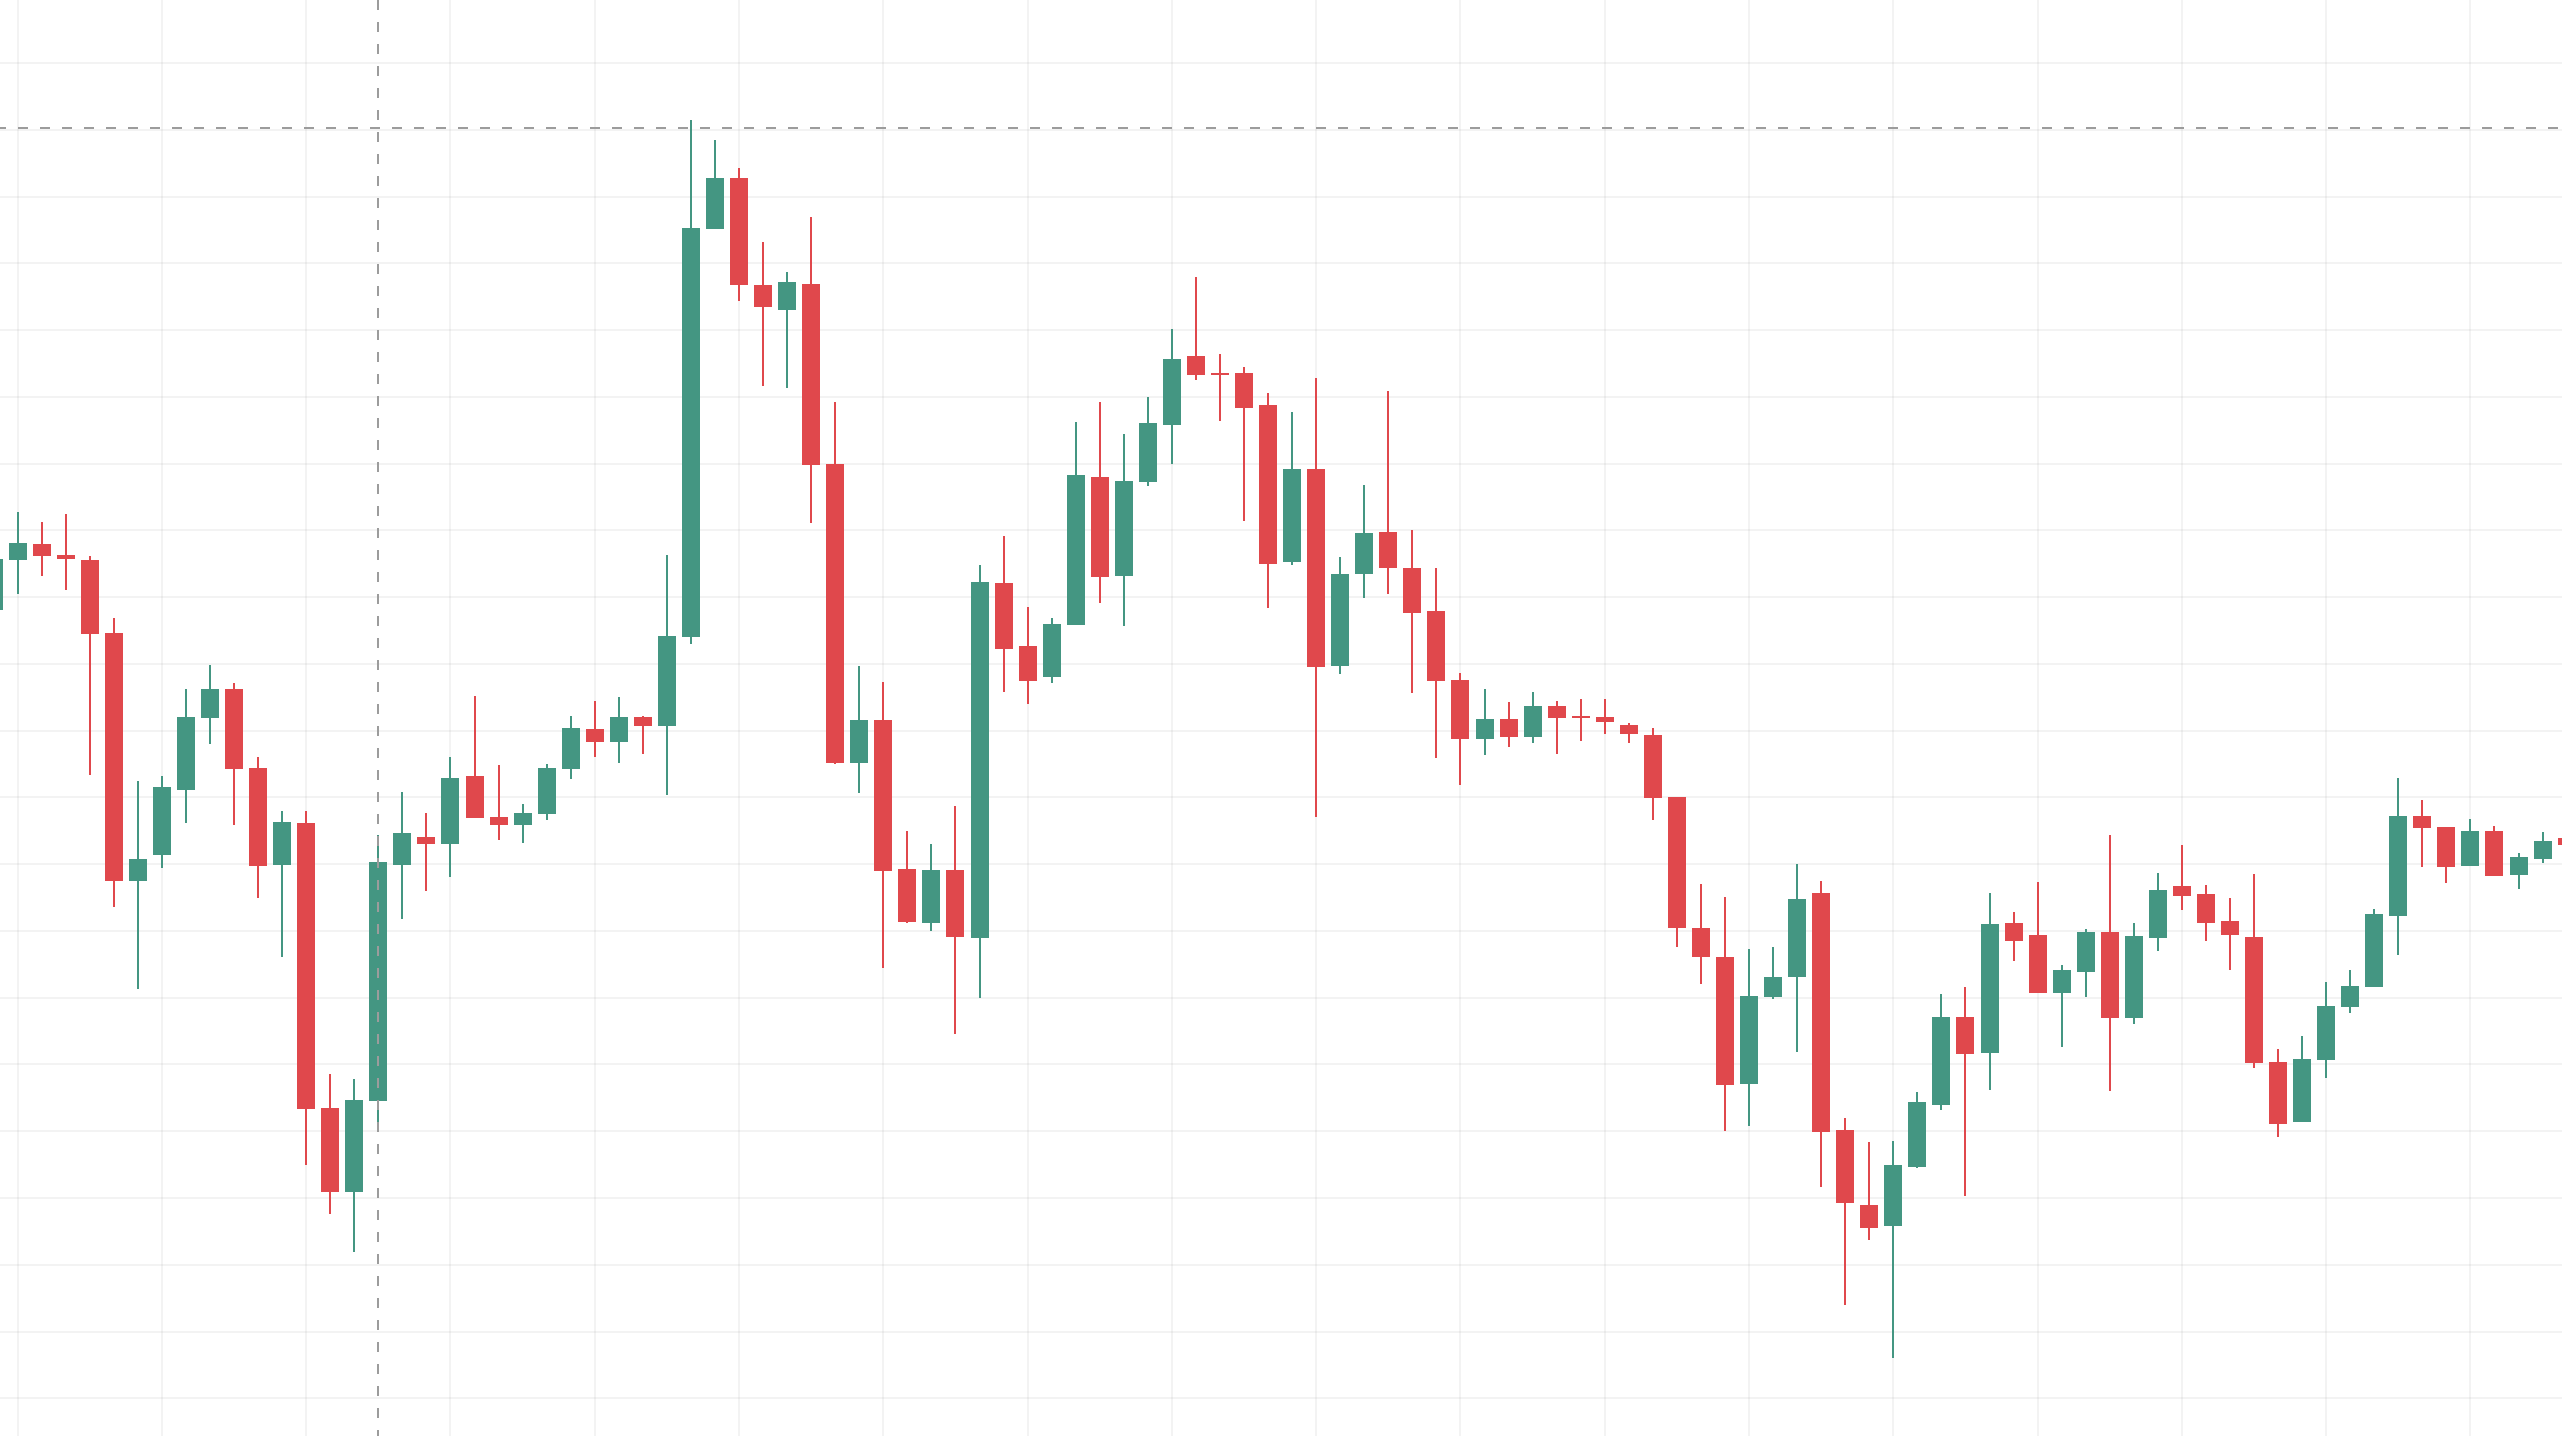V-turn: (1561, 597, 2011, 1401), (727, 109, 1006, 1056), (190, 477, 399, 1311)
